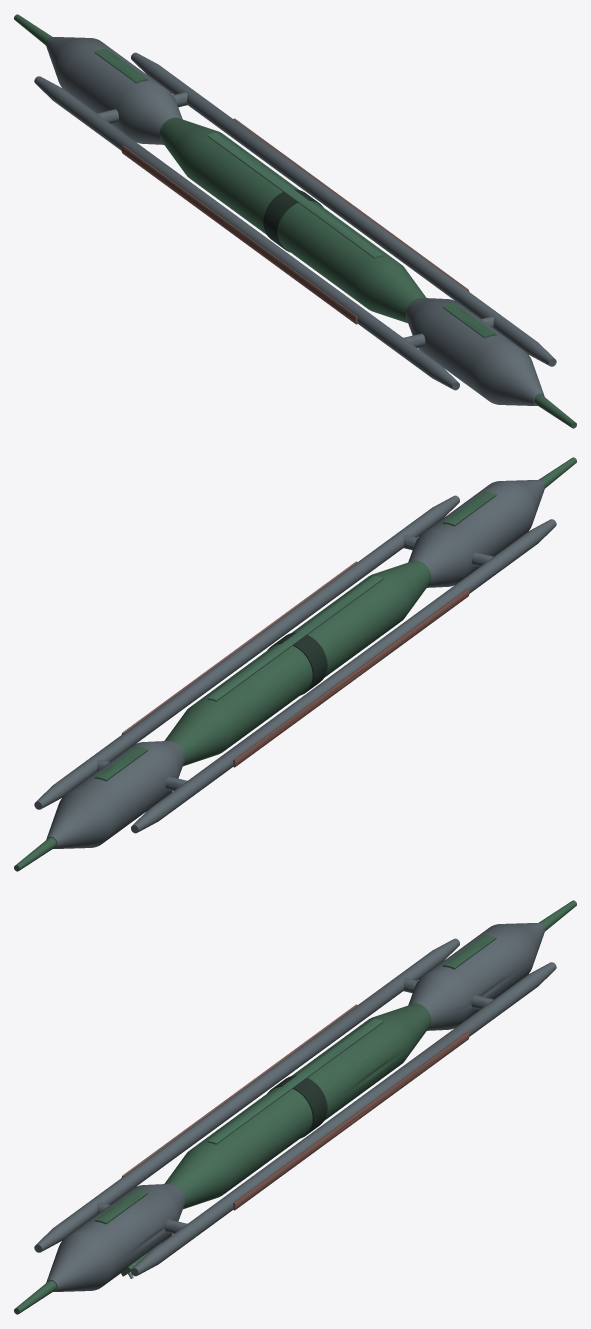
The picture shows the model from 3 angles, top to bottom: view 1: azimuth 30°, elevation 25°; view 2: azimuth 150°, elevation 25°; view 3: azimuth 330°, elevation 25°; orthographic projection.
Visible parts, largest first — view 1: Mikotaj Bruj-Garor green central body, Mikotaj Bruj-Garor grey right outer rail, Mikotaj Bruj-Garor grey forward section, Mikotaj Bruj-Garor grey rear section, Mikotaj Bruj-Garor grey left outer rail, Mikotaj Bruj-Garor fitted casting 2, Mikotaj Bruj-Garor fitted casting 1, Mikotaj Bruj-Garor dark central band, Mikotaj Bruj-Garor fitted casting 3, Mikotaj Bruj-Garor fitted casting 5, Mikotaj Bruj-Garor fitted casting 7; view 2: Mikotaj Bruj-Garor green central body, Mikotaj Bruj-Garor grey right outer rail, Mikotaj Bruj-Garor grey rear section, Mikotaj Bruj-Garor grey forward section, Mikotaj Bruj-Garor grey left outer rail, Mikotaj Bruj-Garor fitted casting 2, Mikotaj Bruj-Garor fitted casting 1, Mikotaj Bruj-Garor dark central band, Mikotaj Bruj-Garor fitted casting 3, Mikotaj Bruj-Garor fitted casting 5, Mikotaj Bruj-Garor fitted casting 7; view 3: Mikotaj Bruj-Garor green central body, Mikotaj Bruj-Garor grey left outer rail, Mikotaj Bruj-Garor grey forward section, Mikotaj Bruj-Garor grey rear section, Mikotaj Bruj-Garor grey right outer rail, Mikotaj Bruj-Garor fitted casting 3, Mikotaj Bruj-Garor fitted casting 1, Mikotaj Bruj-Garor dark central band, Mikotaj Bruj-Garor fitted casting 2, Mikotaj Bruj-Garor fitted casting 5, Mikotaj Bruj-Garor fitted casting 7.
Part boxes in pixels (<box>): Mikotaj Bruj-Garor green central body: <box>14,14,576,428</box>; Mikotaj Bruj-Garor grey right outer rail: <box>131,52,556,366</box>; Mikotaj Bruj-Garor grey forward section: <box>405,297,544,405</box>; Mikotaj Bruj-Garor grey rear section: <box>46,37,182,144</box>; Mikotaj Bruj-Garor grey left outer rail: <box>34,76,459,390</box>; Mikotaj Bruj-Garor fitted casting 2: <box>121,145,357,324</box>; Mikotaj Bruj-Garor fitted casting 1: <box>207,133,383,258</box>; Mikotaj Bruj-Garor dark central band: <box>263,189,323,252</box>; Mikotaj Bruj-Garor fitted casting 3: <box>233,118,469,291</box>; Mikotaj Bruj-Garor fitted casting 5: <box>442,303,496,338</box>; Mikotaj Bruj-Garor fitted casting 7: <box>94,48,148,83</box>; Mikotaj Bruj-Garor green central body: <box>14,457,576,871</box>; Mikotaj Bruj-Garor grey right outer rail: <box>34,495,459,809</box>; Mikotaj Bruj-Garor grey rear section: <box>46,740,185,848</box>; Mikotaj Bruj-Garor grey forward section: <box>408,480,544,587</box>; Mikotaj Bruj-Garor grey left outer rail: <box>131,519,556,833</box>; Mikotaj Bruj-Garor fitted casting 2: <box>233,588,469,767</box>; Mikotaj Bruj-Garor fitted casting 1: <box>207,576,383,701</box>; Mikotaj Bruj-Garor dark central band: <box>267,632,327,695</box>; Mikotaj Bruj-Garor fitted casting 3: <box>121,561,357,734</box>; Mikotaj Bruj-Garor fitted casting 5: <box>442,491,496,526</box>; Mikotaj Bruj-Garor fitted casting 7: <box>94,746,148,781</box>; Mikotaj Bruj-Garor green central body: <box>14,900,576,1314</box>; Mikotaj Bruj-Garor grey left outer rail: <box>34,938,459,1252</box>; Mikotaj Bruj-Garor grey forward section: <box>46,1183,185,1291</box>; Mikotaj Bruj-Garor grey rear section: <box>408,923,544,1030</box>; Mikotaj Bruj-Garor grey right outer rail: <box>131,962,556,1276</box>; Mikotaj Bruj-Garor fitted casting 3: <box>233,1031,469,1210</box>; Mikotaj Bruj-Garor fitted casting 1: <box>207,1019,383,1144</box>; Mikotaj Bruj-Garor dark central band: <box>267,1075,327,1138</box>; Mikotaj Bruj-Garor fitted casting 2: <box>121,1004,357,1177</box>; Mikotaj Bruj-Garor fitted casting 5: <box>94,1189,148,1224</box>; Mikotaj Bruj-Garor fitted casting 7: <box>442,934,496,969</box>.
Bounding box in the file's own units: 0.236 × 0.1201 × 2.
6 materials, 4 textured.
